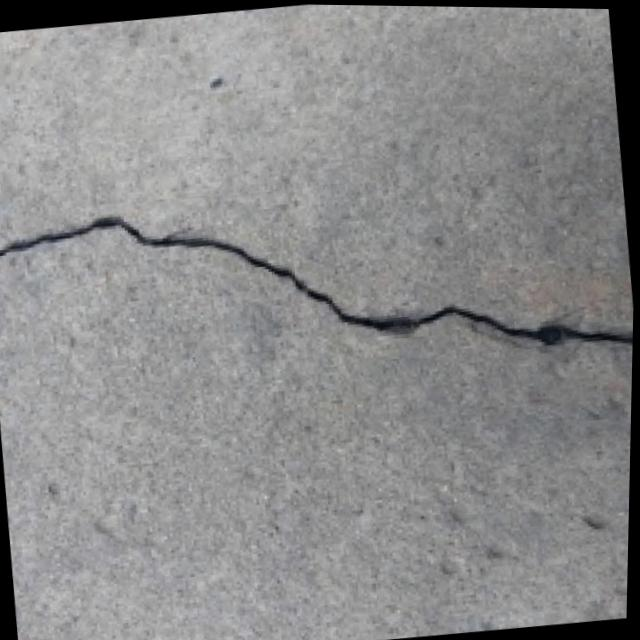Crack: (0, 147, 637, 440)
